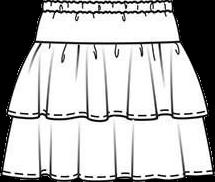Hemline: (6, 112, 208, 121), (0, 173, 214, 181)
Waistline: (35, 39, 180, 43), (42, 9, 171, 13), (42, 0, 171, 3)
